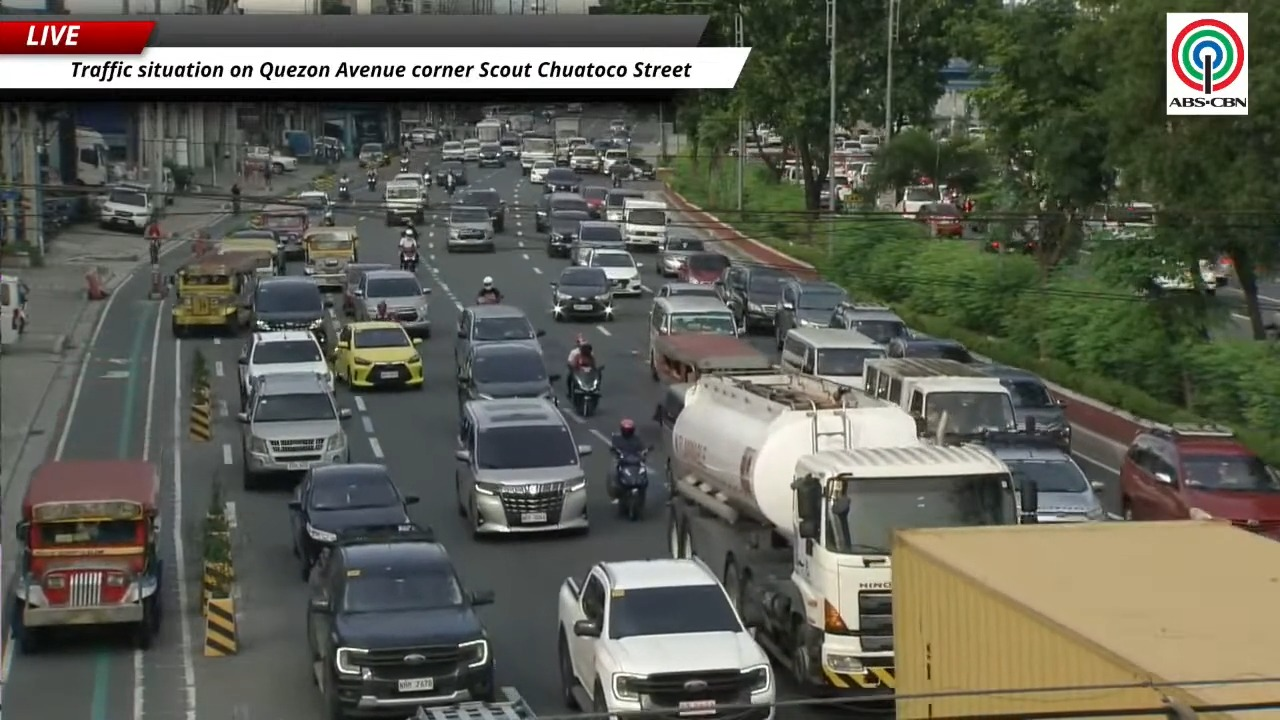car: (307, 531, 495, 719), (557, 559, 775, 719), (455, 399, 591, 537), (1119, 424, 1279, 539), (289, 463, 418, 579), (236, 373, 351, 490), (987, 433, 1105, 522), (975, 364, 1070, 448), (238, 331, 332, 407), (458, 342, 559, 406), (333, 320, 423, 388), (454, 304, 544, 371), (355, 268, 430, 337), (251, 276, 327, 344), (774, 278, 846, 349), (721, 265, 793, 332), (222, 228, 304, 273), (829, 302, 911, 345), (551, 266, 613, 320), (99, 183, 158, 232), (584, 248, 642, 295), (886, 336, 978, 364), (342, 263, 390, 316), (570, 221, 625, 264), (446, 206, 494, 252), (457, 188, 505, 232), (546, 210, 590, 257), (535, 192, 588, 231), (657, 237, 706, 277), (676, 251, 730, 284), (915, 202, 963, 237), (896, 186, 940, 217), (604, 188, 644, 222), (295, 191, 332, 224), (655, 282, 720, 299), (543, 167, 582, 193), (580, 186, 608, 218), (434, 159, 467, 186), (569, 146, 601, 173), (357, 142, 389, 168), (601, 147, 628, 173), (529, 159, 555, 183), (478, 143, 505, 166), (629, 156, 655, 179), (499, 137, 522, 159), (390, 172, 421, 188), (590, 138, 619, 155), (462, 138, 480, 161), (610, 118, 629, 132), (565, 103, 583, 113)
motorcycle: (610, 448, 648, 520), (568, 365, 602, 417), (400, 249, 418, 271), (476, 293, 501, 304), (338, 180, 349, 201), (366, 173, 377, 191), (322, 211, 335, 226), (422, 168, 432, 187), (400, 159, 411, 173), (612, 174, 622, 188), (446, 182, 455, 196)
truck: (666, 375, 1035, 700), (892, 520, 1279, 719), (651, 333, 773, 383), (405, 686, 535, 719), (75, 126, 112, 186), (552, 115, 581, 165), (521, 135, 555, 174), (552, 116, 581, 142), (475, 118, 503, 142)
